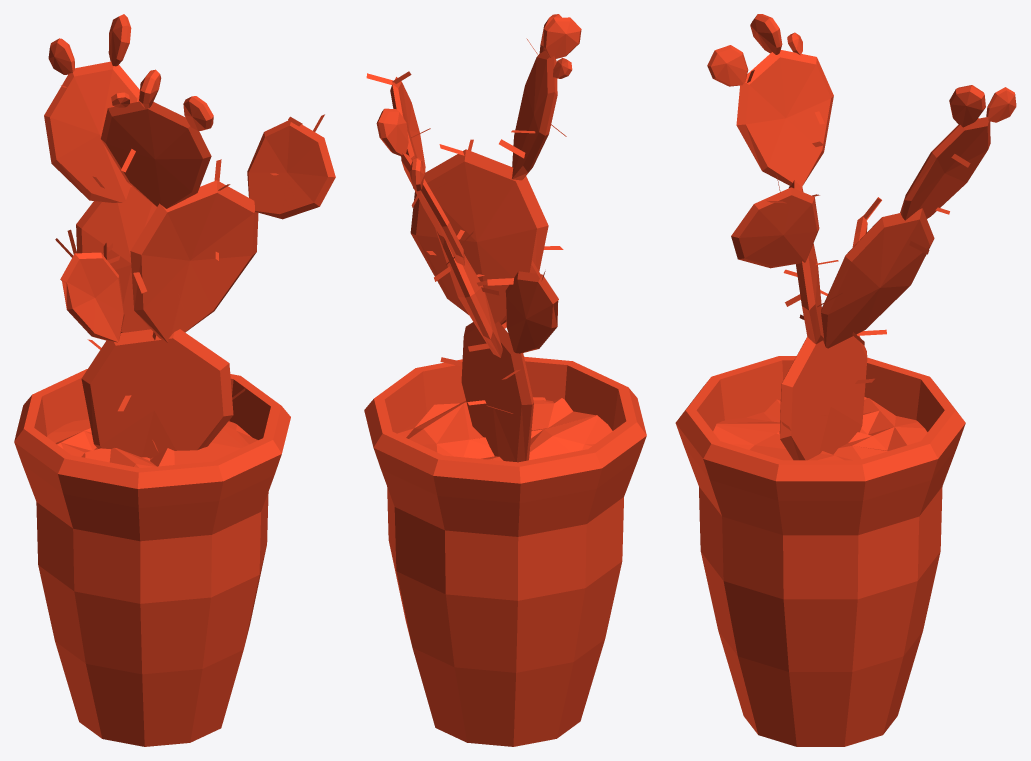
File: SM_Flowerpot_C_Filled.fbx
3 renders of one model, left to right at view 1: azimuth 30°, elevation 25°; view 2: azimuth 150°, elevation 25°; view 3: azimuth 270°, elevation 25°, orthographic. The views are drawn at different scales.
Visible parts, largest first — view 1: SM_Flowerpot_C_Filled; view 2: SM_Flowerpot_C_Filled; view 3: SM_Flowerpot_C_Filled.
Part boxes in pixels (x1=…): SM_Flowerpot_C_Filled: x1=14, y1=14, x2=335, y2=746; SM_Flowerpot_C_Filled: x1=364, y1=14, x2=646, y2=746; SM_Flowerpot_C_Filled: x1=675, y1=14, x2=1016, y2=746.
Size of the model in its own units: 0.6657 by 1.57 by 0.7081.
